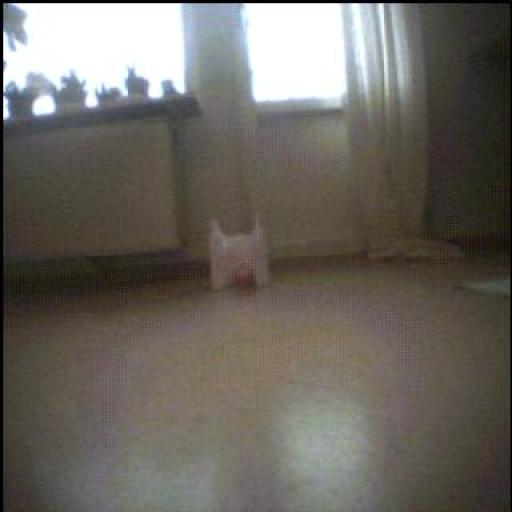Basket: (232, 263, 260, 295)
